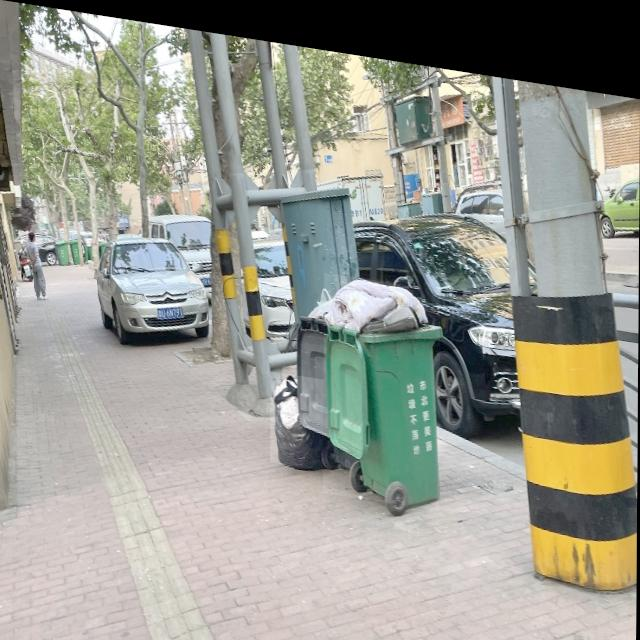garbage: (270, 363, 336, 462)
garbage_bin: (56, 236, 69, 263), (70, 235, 79, 261)
overflow: (323, 262, 441, 496)
